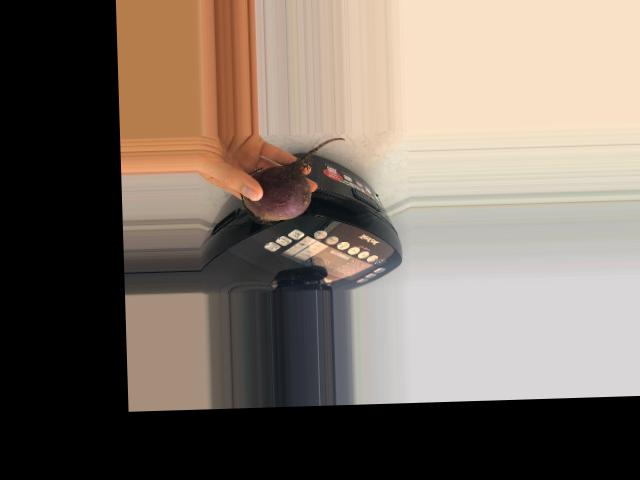beet: (240, 137, 347, 225)
